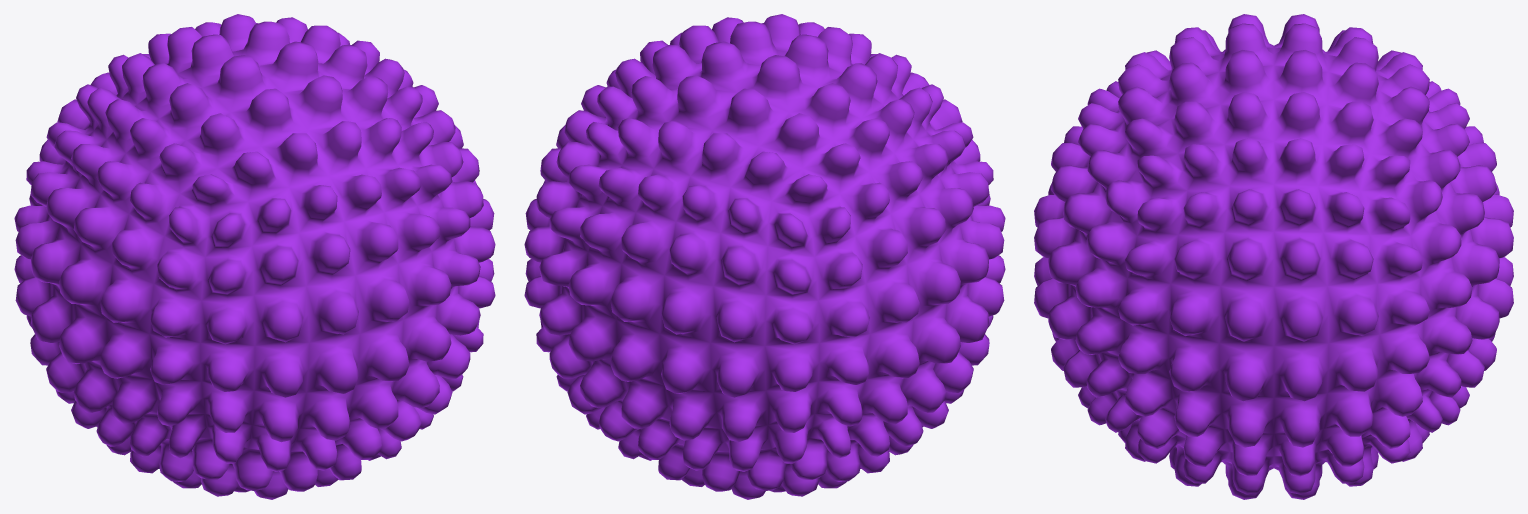
File: enemy.gltf
The picture shows the model from 3 angles, left to right: view 1: azimuth 30°, elevation 25°; view 2: azimuth 150°, elevation 25°; view 3: azimuth 270°, elevation 25°; orthographic projection.
Visible parts, largest first — view 1: enemy; view 2: enemy; view 3: enemy.
Boxes of the visible parts, x1,y1,x2,y2 form: enemy: [14, 14, 495, 499]; enemy: [524, 14, 1005, 499]; enemy: [1034, 14, 1513, 499].
Size of the model in its own units: 3.94 by 3.94 by 3.94.
